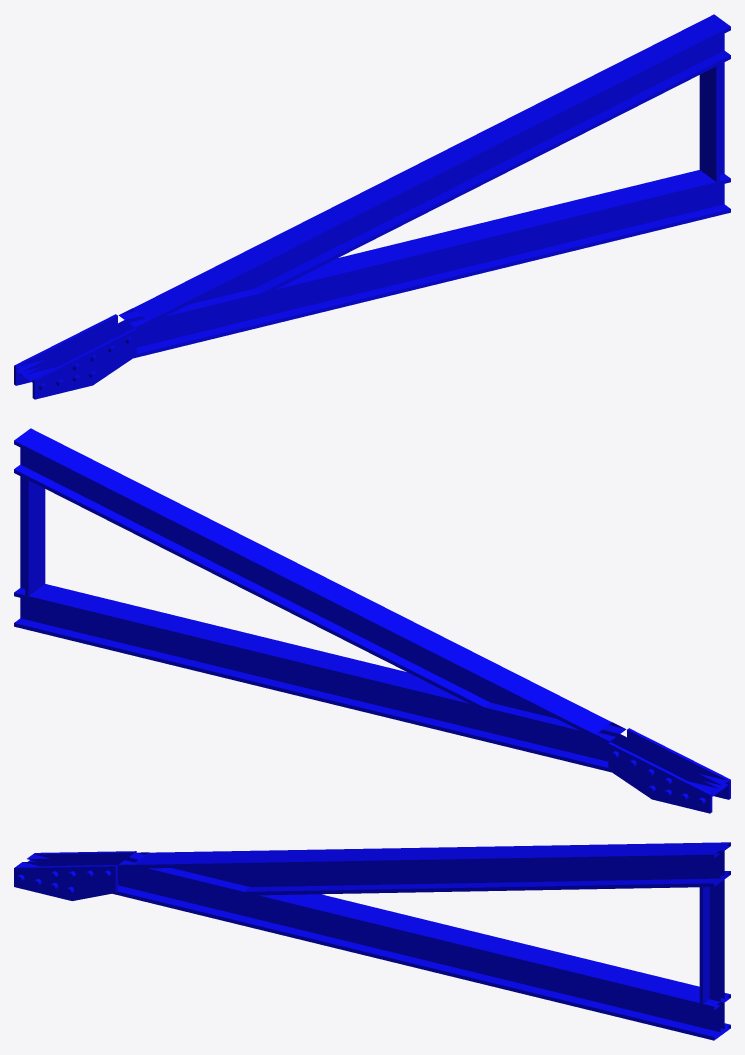
File: Structure02_Roof01.fbx
The picture shows the model from 3 angles, top to bottom: view 1: azimuth 30°, elevation 25°; view 2: azimuth 150°, elevation 25°; view 3: azimuth 330°, elevation 25°; orthographic projection.
Visible parts, largest first — view 1: Structure02_Roof01_LOD0; view 2: Structure02_Roof01_LOD0; view 3: Structure02_Roof01_LOD0.
Part boxes in pixels (x1,y1,x2,y2): Structure02_Roof01_LOD0: (14, 14, 730, 399); Structure02_Roof01_LOD0: (14, 428, 730, 813); Structure02_Roof01_LOD0: (14, 842, 730, 1040).
Size of what is drawn, in the model's own units: 300 by 82.64 by 19.5.
